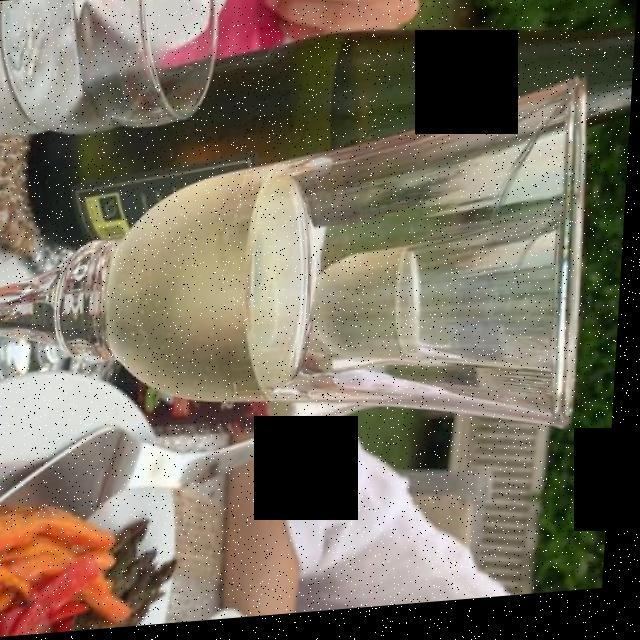wine: (90, 158, 314, 387)
